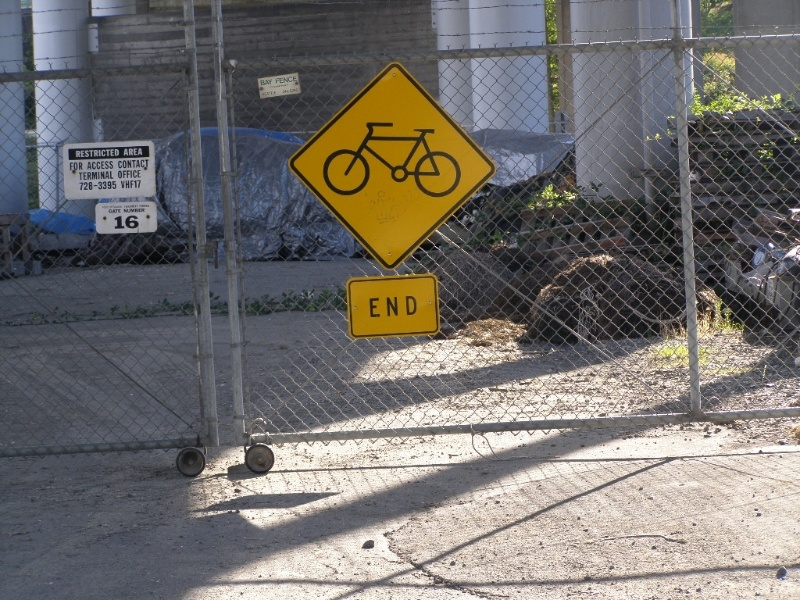cycle_route_ahead: (321, 122, 462, 203)
